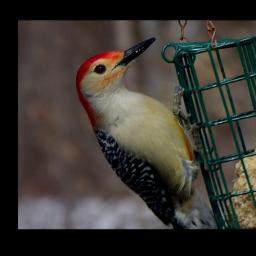Woodpecker: (76, 37, 214, 228)
